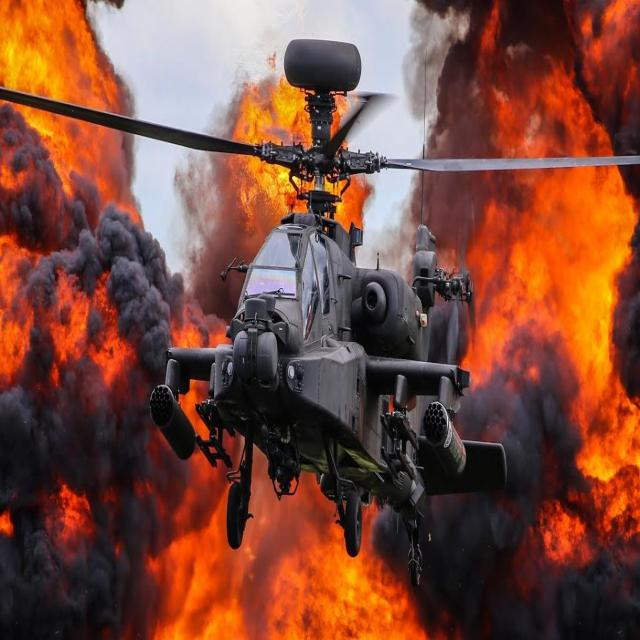MIL_HELO: (13, 42, 634, 586)
